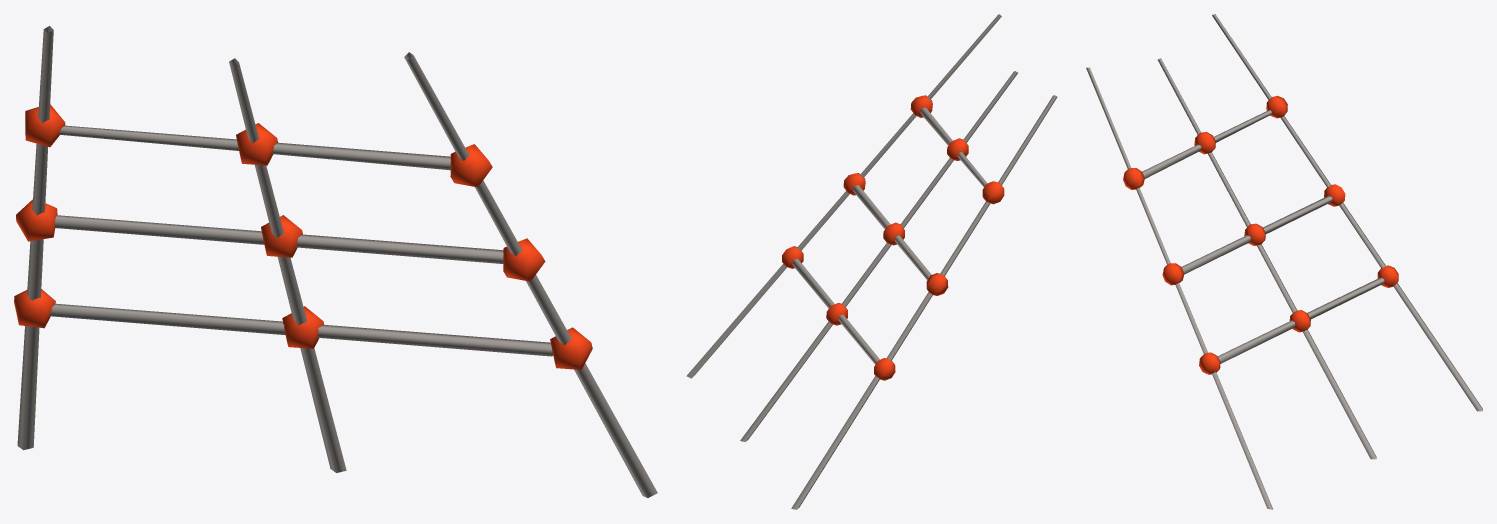
File: PlaygroundSet_RopeLarge.fbx
3 views of the same model, side by side, from view 1: azimuth 30°, elevation 25°; view 2: azimuth 150°, elevation 25°; view 3: azimuth 270°, elevation 25° (orthographic). The views are drawn at different scales.
Visible parts, largest first — view 1: PlaygroundSet_RopeLarge; view 2: PlaygroundSet_RopeLarge; view 3: PlaygroundSet_RopeLarge.
Part boxes in pixels (box(x1,y1,x2,y2)): PlaygroundSet_RopeLarge: box(14, 26, 657, 497); PlaygroundSet_RopeLarge: box(686, 14, 1057, 509); PlaygroundSet_RopeLarge: box(1086, 14, 1482, 509).
Bounding box in the file's own units: 142 × 139 × 146.
Materials: 1 (1 with a texture image).
